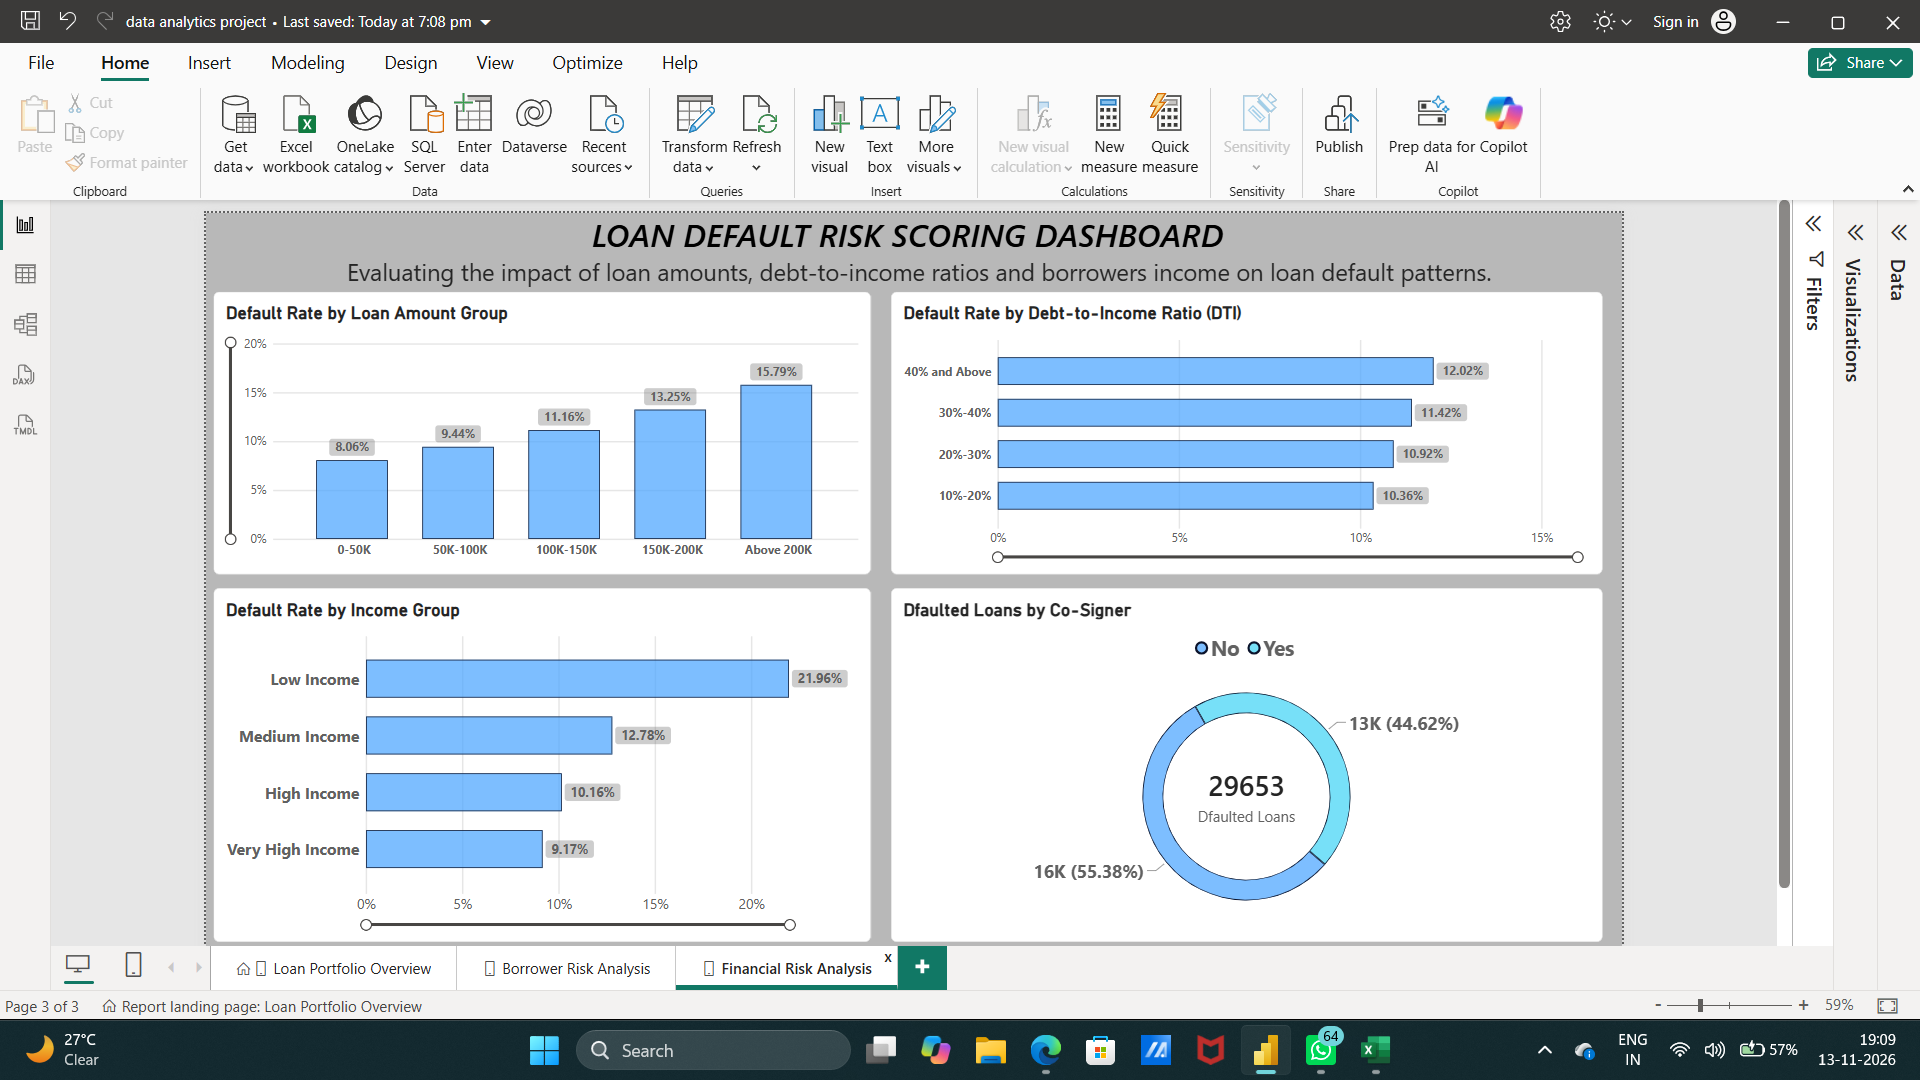

Layout of this report page (visuals, bound fields, positions):
{"tool":"powerbi","page":{"name":"Financial Risk Analysis","canvas":[1920,1080],"ordinal":2},"visuals":[{"type":"textbox","box":[10.2,0,1883.1,57.6],"z":0},{"type":"textbox","box":[67.8,57.6,1798.3,49.2],"z":7000},{"type":"clusteredColumnChart","fields":{"Category":["Loan_Default_Analysis_Ready xlx.Loan Amount Group"],"Y":["Loan_Default_Analysis_Ready xlx.Default Rate"]},"box":[10.2,106.8,891.5,383.1],"z":7001},{"type":"clusteredBarChart","title":"Default Rate by Debt-to-Income Ratio (DTI)","fields":{"Category":["Loan_Default_Analysis_Ready xlx.DTI Group"],"Y":["Loan_Default_Analysis_Ready xlx.Default Rate"]},"box":[928.8,106.8,964.4,383.1],"z":7002},{"type":"barChart","fields":{"Category":["Loan_Default_Analysis_Ready xlx.Income Group"],"Y":["Loan_Default_Analysis_Ready xlx.Default Rate"]},"box":[10.2,508.5,891.5,479.7],"z":7003},{"type":"donutChart","title":"Dfaulted Loans by Co-Signer ","fields":{"Category":["Loan_Default_Analysis_Ready xlx.has_co_signer"],"Y":["Loan_Default_Analysis_Ready xlx.Dfaulted Loans"]},"box":[928.8,508.5,964.4,479.7],"z":7004}]}

Visuals, with their boxes on the page's 1920x1080 design canvas (x1, y1, x2, y2). These are canvas units, not pixel positions in the 1920x1080 screenshot, which may show the page scaled, cropped or inside an application window:
textbox: bbox(10, 0, 1893, 58)
textbox: bbox(68, 58, 1866, 107)
clusteredColumnChart - Loan_Default_Analysis_Ready xlx.Loan Amount Group x Loan_Default_Analysis_Ready xlx.Default Rate: bbox(10, 107, 902, 490)
"Default Rate by Debt-to-Income Ratio (DTI)" clusteredBarChart: bbox(929, 107, 1893, 490)
barChart - Loan_Default_Analysis_Ready xlx.Income Group x Loan_Default_Analysis_Ready xlx.Default Rate: bbox(10, 508, 902, 988)
"Dfaulted Loans by Co-Signer " donutChart: bbox(929, 508, 1893, 988)
